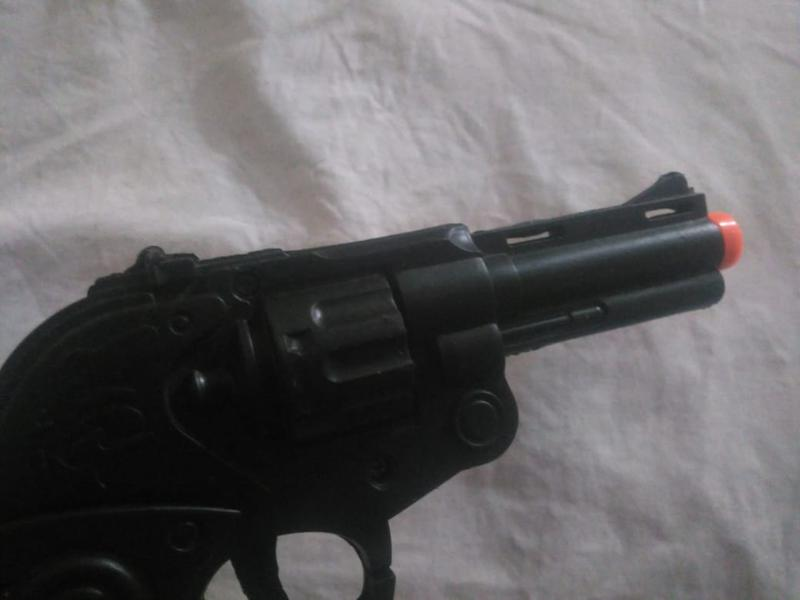gun: (9, 168, 777, 597)
